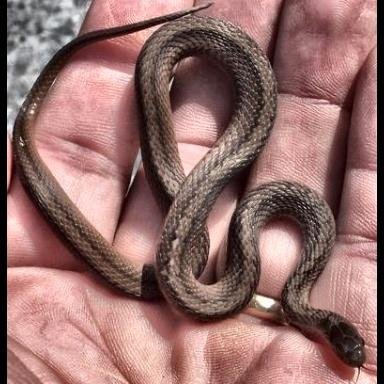snake: (12, 7, 366, 369)
